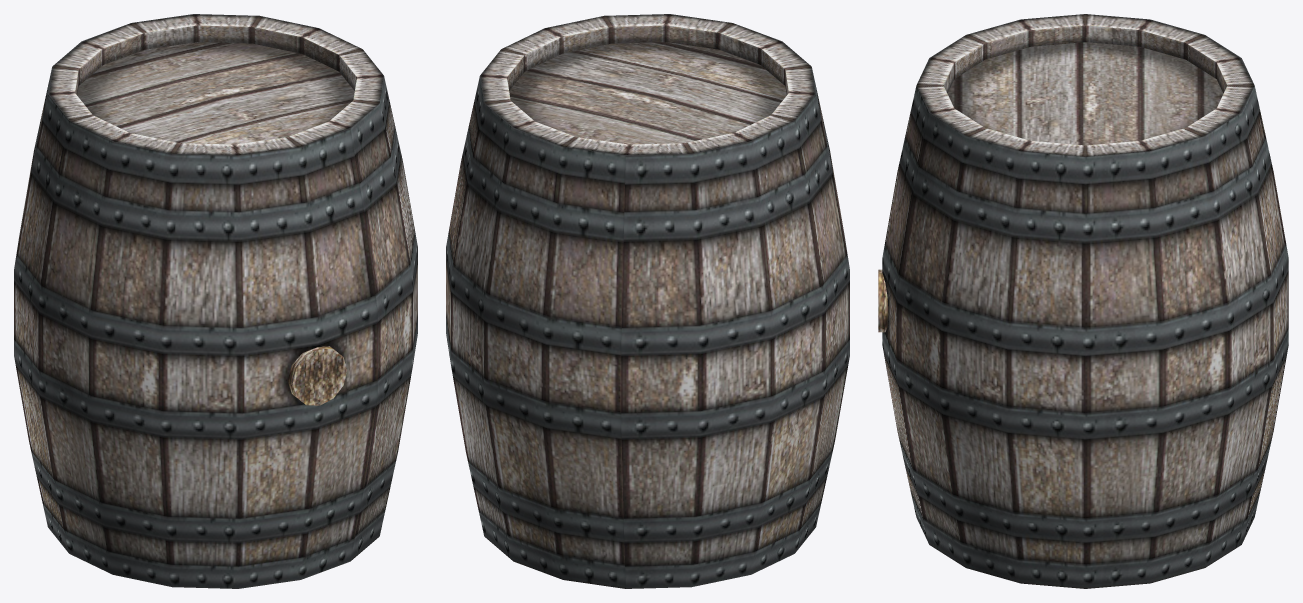
Rendered from barrel.FBX.
3 views of the same model, side by side, from view 1: azimuth 30°, elevation 25°; view 2: azimuth 150°, elevation 25°; view 3: azimuth 270°, elevation 25° (orthographic).
Parts seen in each view (by area): view 1: barrel; view 2: barrel; view 3: barrel.
Part boxes in pixels (left/top/right/bottom): barrel: left=14, top=14, right=417, bottom=588; barrel: left=446, top=14, right=849, bottom=588; barrel: left=878, top=14, right=1288, bottom=588.
Size of the model in its own units: 40.45 by 40.85 by 47.44.
